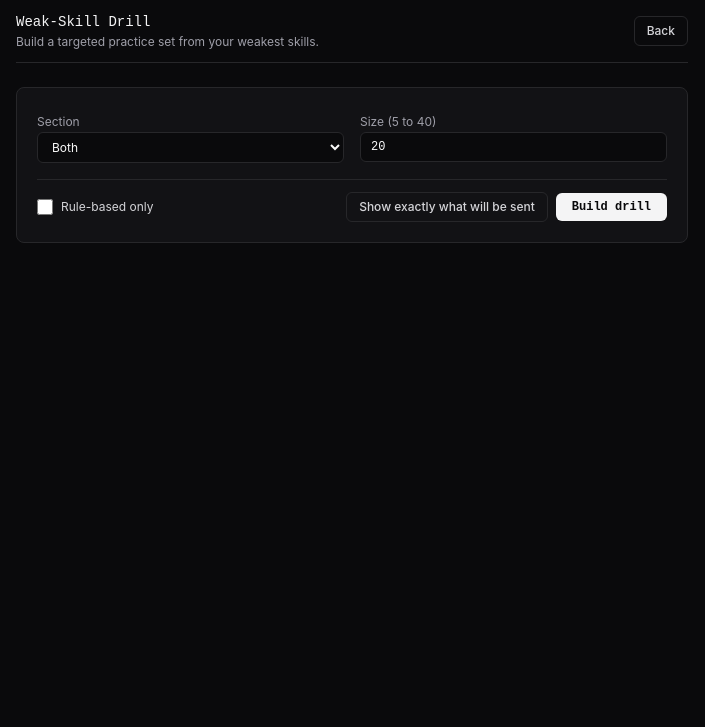
Test: WeakDrillScreen › renders rule-based origin and fallback notes when fallbackReason is set
Step 1. Click the button "Build drill" → (611, 207), box [556,193,667,221]
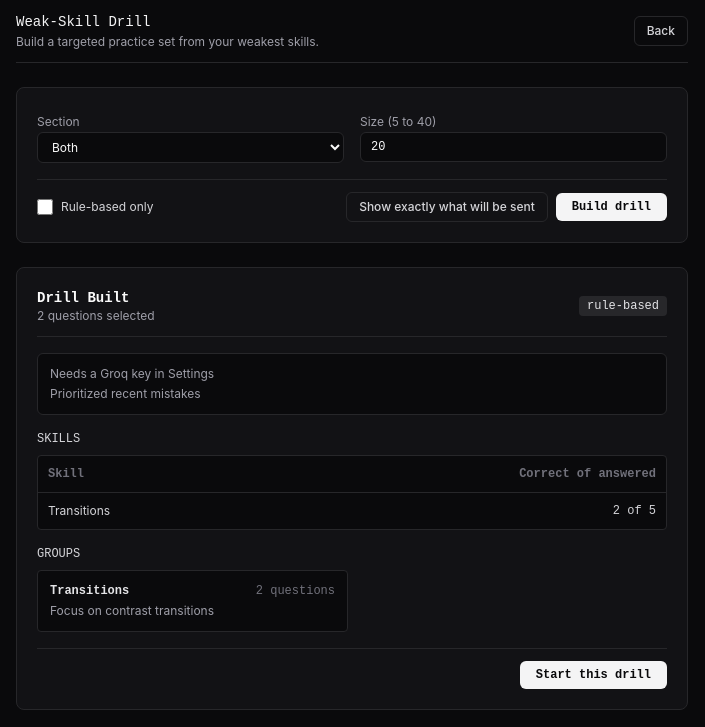
Expected: the text "Rule-based" is shown, [61,199,154,214]
Now the text "Needs a Groq key in Settings" is shown, box [50,366,214,381]
